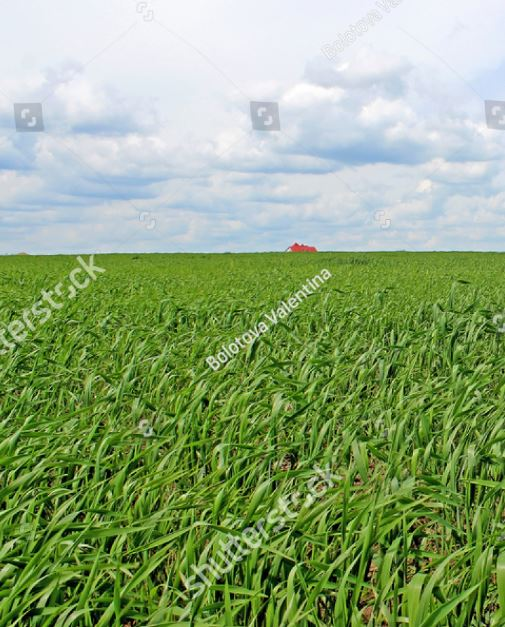Wheat: (55, 405, 467, 614)
